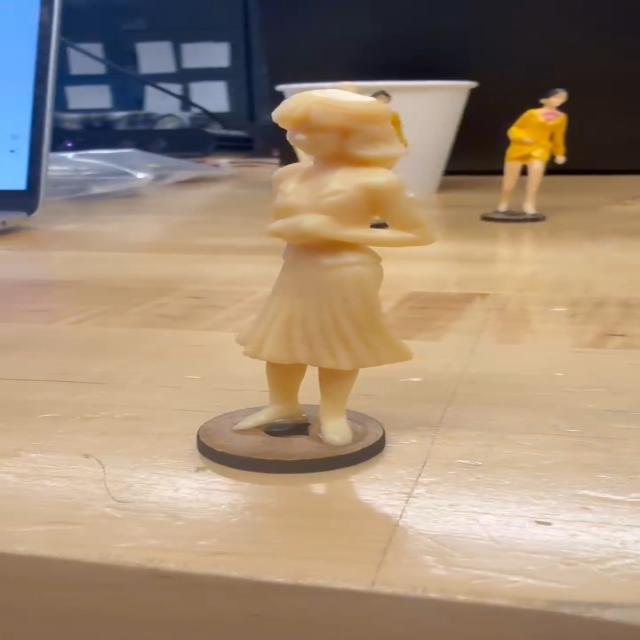Unauthorized: (244, 82, 447, 465)
